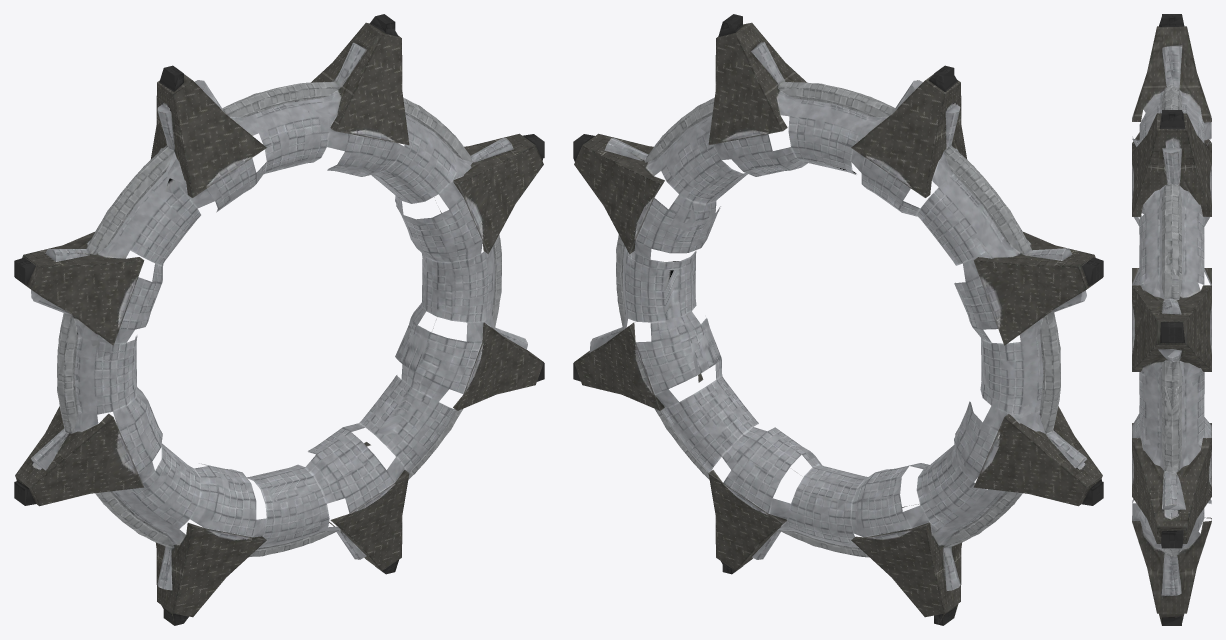
The model's file is sd_prop_gate_ankora.glb.
3 views of the same model, side by side, from view 1: azimuth 30°, elevation 25°; view 2: azimuth 150°, elevation 25°; view 3: azimuth 270°, elevation 25° (orthographic). The views are drawn at different scales.
Parts seen in each view (by area): view 1: LOD0_body, LOD1_body; view 2: LOD0_body, LOD1_body; view 3: LOD0_body, LOD1_body.
Part boxes in pixels (left/top/right/bottom): LOD0_body: left=14, top=14, right=544, bottom=625; LOD1_body: left=14, top=16, right=544, bottom=625; LOD0_body: left=573, top=14, right=1103, bottom=625; LOD1_body: left=573, top=19, right=1103, bottom=624; LOD0_body: left=1132, top=14, right=1211, bottom=625; LOD1_body: left=1132, top=14, right=1211, bottom=625.
Bounding box in the file's own units: 0.9882 × 1 × 0.1416.
1 material, 1 textured.
